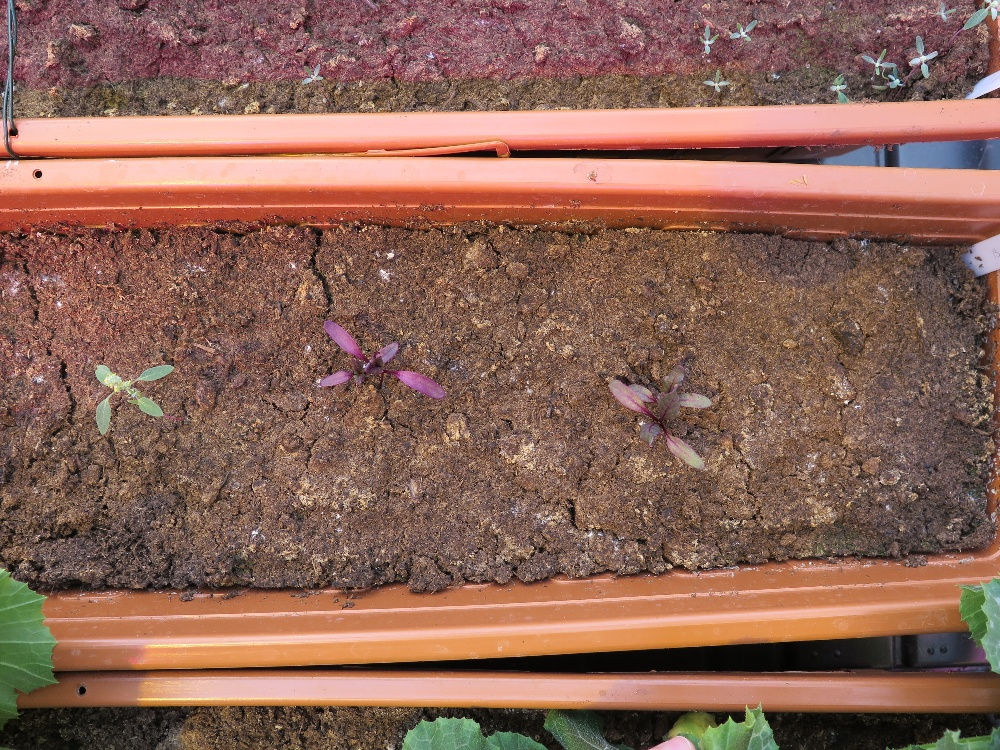crop: (302, 304, 471, 442), (596, 345, 737, 501), (73, 331, 200, 440)
weed: (848, 33, 916, 106), (687, 13, 773, 70), (816, 61, 864, 129), (932, 1, 1000, 45), (707, 61, 752, 108), (907, 36, 943, 90)
